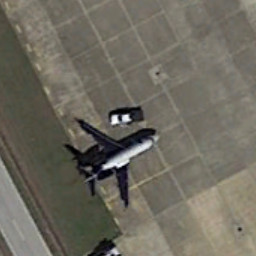Airplane: (63, 118, 163, 213)
